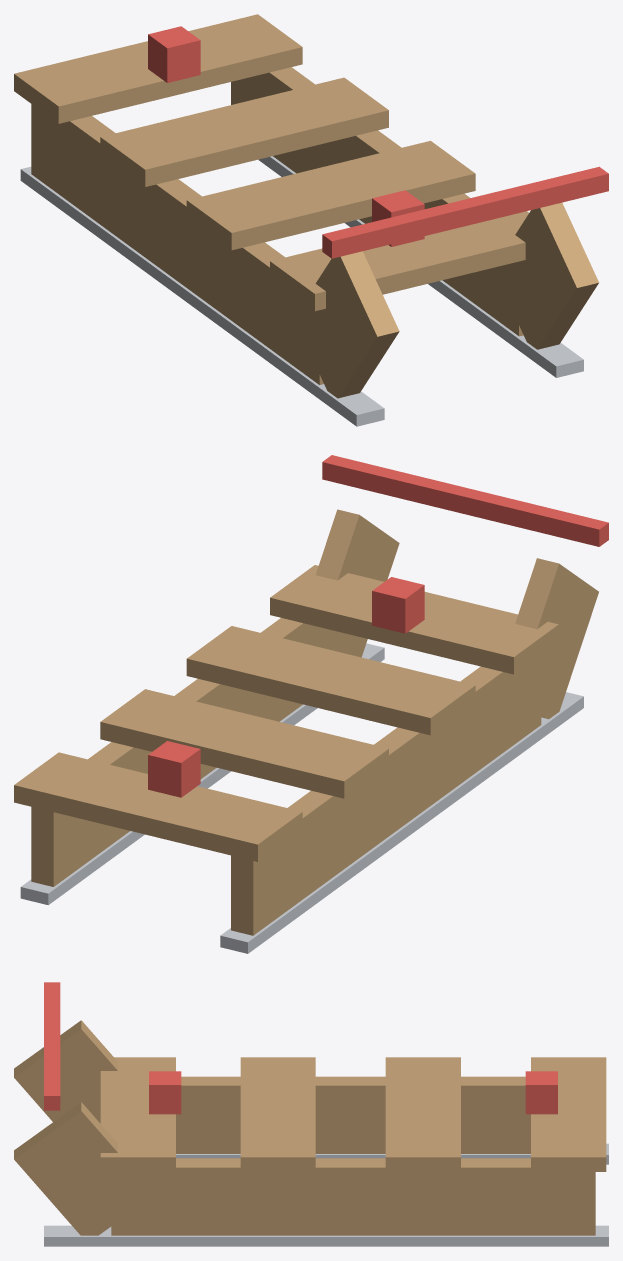
Rendered from ski-resort-and-snow-park-toboggan-sled-47bc0f3c.glb.
3 views of the same model, one above another, from view 1: azimuth 30°, elevation 25°; view 2: azimuth 150°, elevation 25°; view 3: azimuth 270°, elevation 25° (orthographic). The views are drawn at different scales.
Visible parts, largest first — view 1: toboggan-sled; view 2: toboggan-sled; view 3: toboggan-sled.
Part boxes in pixels (<box>): toboggan-sled: <box>14,14,608,426</box>; toboggan-sled: <box>14,455,608,953</box>; toboggan-sled: <box>14,982,608,1246</box>.
Size of the model in its own units: 0.5 by 0.33 by 1.11.
